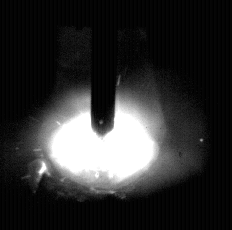arame: (91, 0, 116, 137)
poca: (36, 0, 164, 230)
